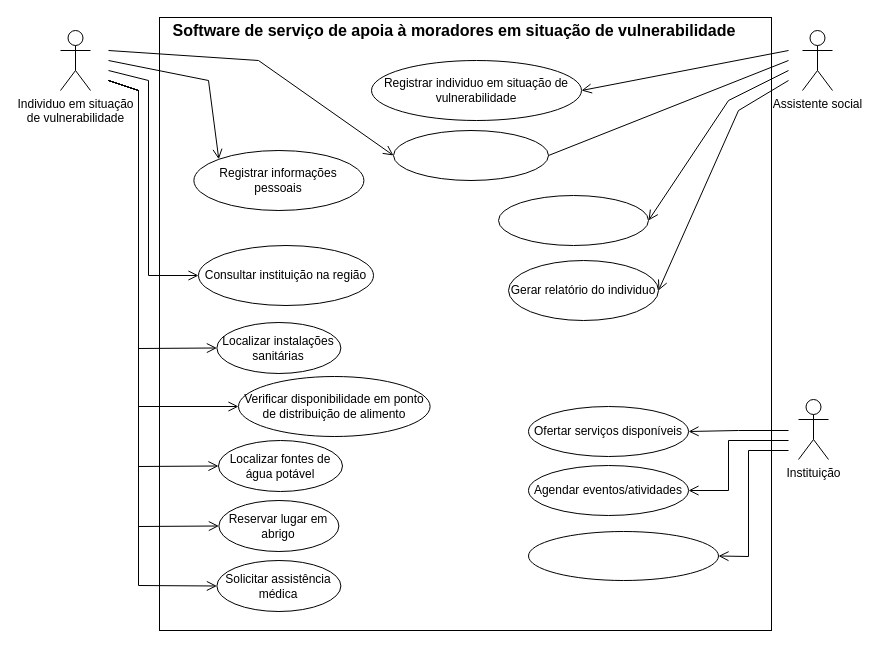
This 879x648 diagram has some shape labels left out. Here are the shapes that lost their labels. From the top down, the centre of each, then its label:
At point (470, 155): "Acessar chat de suporte".
At point (573, 220): "Localizar individuo em vulnerabilidade".
At point (623, 555): "Registrar-se como instituição afiliada".
